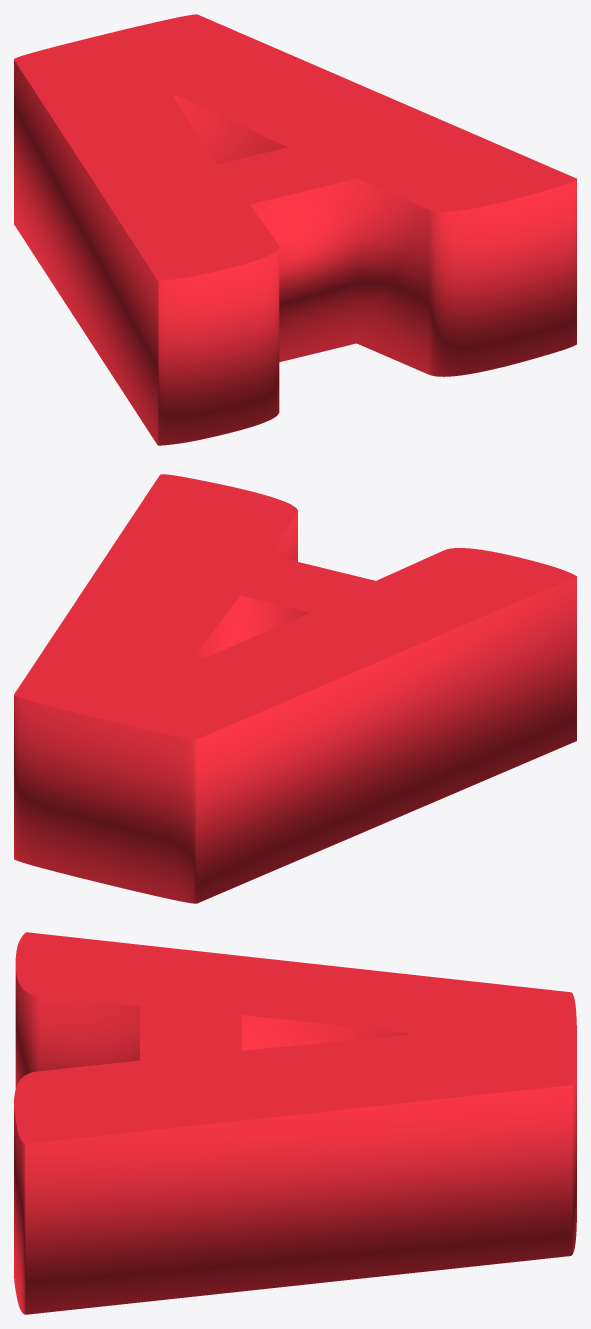
3 views of the same model, one above another, from view 1: azimuth 30°, elevation 25°; view 2: azimuth 150°, elevation 25°; view 3: azimuth 270°, elevation 25° (orthographic). The views are drawn at different scales.
Visible parts, largest first — view 1: a; view 2: a; view 3: a.
Boxes of the visible parts, x1,y1,x2,y2 form: a: [14, 14, 576, 445]; a: [14, 474, 576, 903]; a: [14, 932, 576, 1314].
Size of the model in its own units: 0.2934 by 0.1104 by 0.3297.
